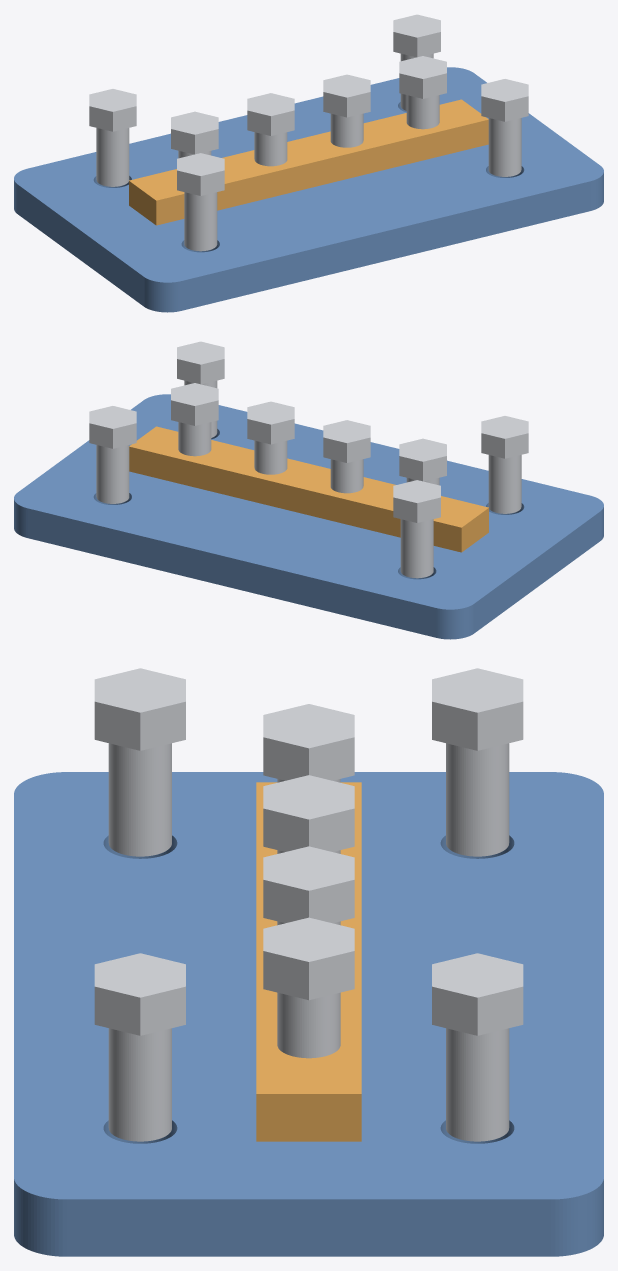
3 renders of one model, top to bottom at view 1: azimuth 30°, elevation 25°; view 2: azimuth 150°, elevation 25°; view 3: azimuth 270°, elevation 25°, orthographic. The views are drawn at different scales.
Visible parts, largest first — view 1: mounting-plate, center-rail, fastener-01, fastener-02, fastener-03, fastener-08, fastener-06, fastener-07, fastener-04, fastener-05; view 2: mounting-plate, center-rail, fastener-01, fastener-02, fastener-04, fastener-08, fastener-06, fastener-07, fastener-03, fastener-05; view 3: mounting-plate, center-rail, fastener-01, fastener-02, fastener-03, fastener-04, fastener-08, fastener-05, fastener-06, fastener-07.
Boxes of the visible parts, <box> form: mounting-plate: <box>14,67,603,312</box>; center-rail: <box>129,99,488,225</box>; fastener-01: <box>177,153,224,251</box>; fastener-02: <box>89,89,136,186</box>; fastener-03: <box>481,79,528,176</box>; fastener-08: <box>399,56,446,129</box>; fastener-06: <box>247,93,294,166</box>; fastener-07: <box>323,74,370,147</box>; fastener-04: <box>393,14,440,110</box>; fastener-05: <box>171,111,218,158</box>; mounting-plate: <box>14,394,603,639</box>; center-rail: <box>129,426,488,552</box>; fastener-01: <box>481,416,528,513</box>; fastener-02: <box>393,480,440,578</box>; fastener-04: <box>89,406,136,503</box>; fastener-08: <box>171,383,218,456</box>; fastener-06: <box>323,420,370,493</box>; fastener-07: <box>247,401,294,474</box>; fastener-03: <box>177,341,224,437</box>; fastener-05: <box>399,438,446,485</box>; mounting-plate: <box>14,772,603,1256</box>; center-rail: <box>256,782,361,1141</box>; fastener-01: <box>94,668,185,856</box>; fastener-02: <box>432,668,523,856</box>; fastener-03: <box>94,953,185,1141</box>; fastener-04: <box>432,953,523,1141</box>; fastener-08: <box>263,917,354,1058</box>; fastener-05: <box>263,704,354,782</box>; fastener-06: <box>263,775,354,853</box>; fastener-07: <box>263,846,354,925</box>.
Size of the model in its own units: 0.096 by 0.022 by 0.056.
